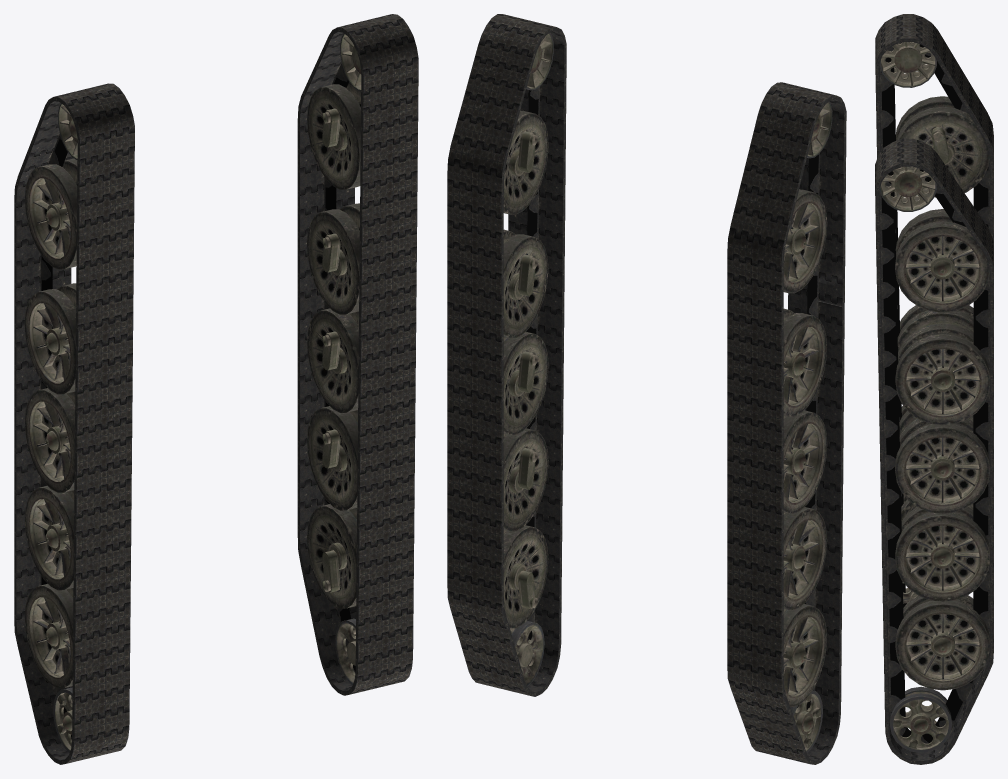
The model's file is Chassis.glb.
3 views of the same model, side by side, from view 1: azimuth 30°, elevation 25°; view 2: azimuth 150°, elevation 25°; view 3: azimuth 270°, elevation 25° (orthographic). The views are drawn at different scales.
Parts seen in each view (by area): view 1: set_1_group_0, set_0_group_0, set_3_group_0, set_2_group_0; view 2: set_1_group_0, set_0_group_0, set_3_group_0, set_2_group_0; view 3: set_3_group_0, set_0_group_0, set_2_group_0, set_1_group_0.
Boxes of the visible parts, box(x1,y1,x2,y2) form: set_1_group_0: box(14, 83, 134, 764); set_0_group_0: box(297, 14, 418, 695); set_3_group_0: box(307, 33, 361, 684); set_2_group_0: box(24, 103, 77, 752); set_1_group_0: box(727, 82, 846, 764); set_0_group_0: box(447, 14, 566, 696); set_3_group_0: box(503, 33, 553, 686); set_2_group_0: box(783, 101, 832, 752); set_3_group_0: box(879, 166, 989, 752); set_0_group_0: box(875, 138, 993, 764); set_2_group_0: box(879, 42, 989, 603); set_1_group_0: box(875, 14, 993, 607).
Size of the model in its own units: 3.08 by 5.8 by 1.04.
4 materials, 4 textured.
